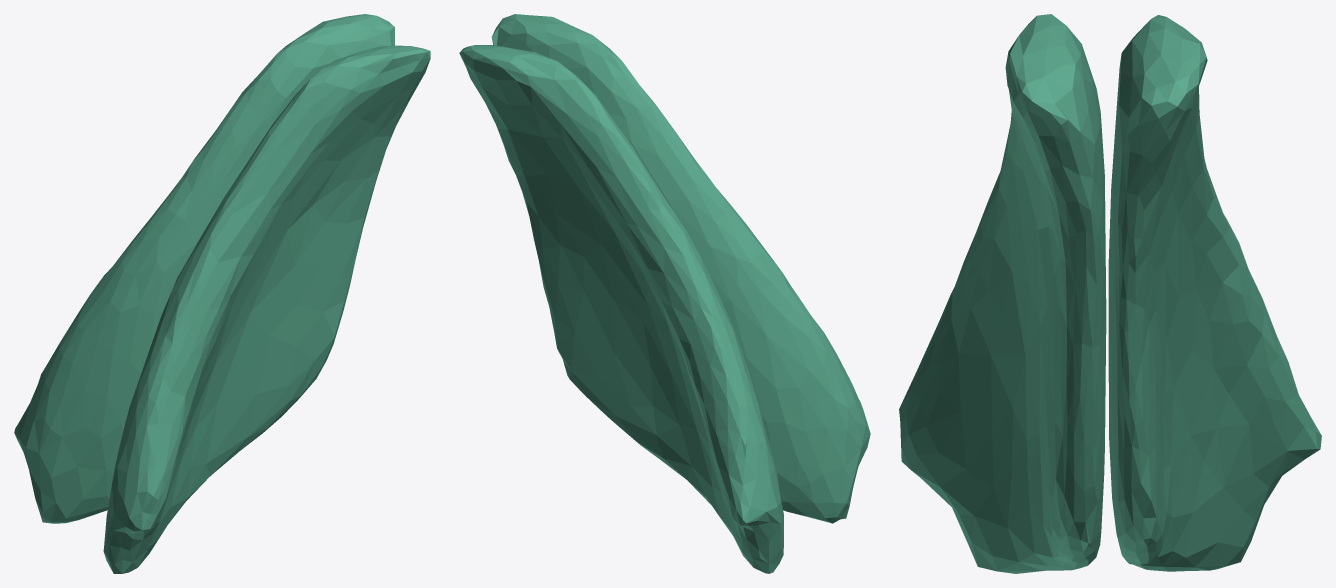
3 renders of one model, left to right at view 1: azimuth 30°, elevation 25°; view 2: azimuth 150°, elevation 25°; view 3: azimuth 270°, elevation 25°, orthographic. The views are drawn at different scales.
Parts seen in each view (by area): view 1: 484.obj; view 2: 484.obj; view 3: 484.obj.
Boxes of the visible parts, x1,y1,x2,y2 form: 484.obj: (14,14,430,573); 484.obj: (459,14,870,573); 484.obj: (899,14,1321,573).
Size of the model in its own units: 1380 by 1715 by 886.
